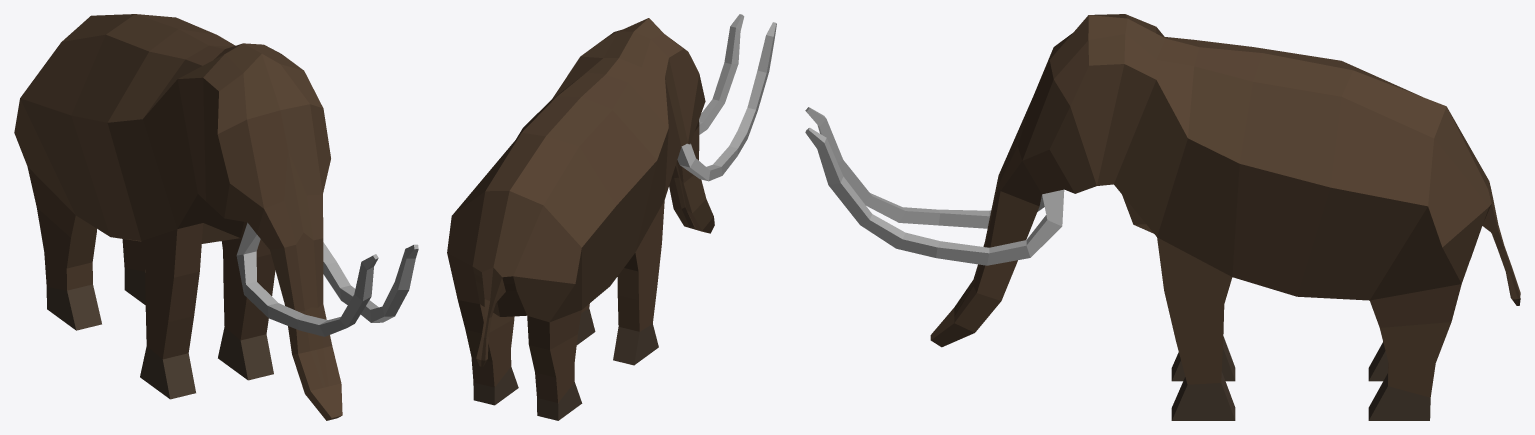
File: Mammoothcoloranim.dae
3 views of the same model, side by side, from view 1: azimuth 30°, elevation 25°; view 2: azimuth 150°, elevation 25°; view 3: azimuth 270°, elevation 25° (orthographic). The views are drawn at different scales.
Visible parts, largest first — view 1: Plane; view 2: Plane; view 3: Plane.
Part boxes in pixels (bbox=[...]): Plane: bbox=[14, 14, 418, 420]; Plane: bbox=[447, 14, 776, 420]; Plane: bbox=[805, 14, 1520, 420].
Bounding box in the file's own units: 5.42 × 19.5 × 11.41.
